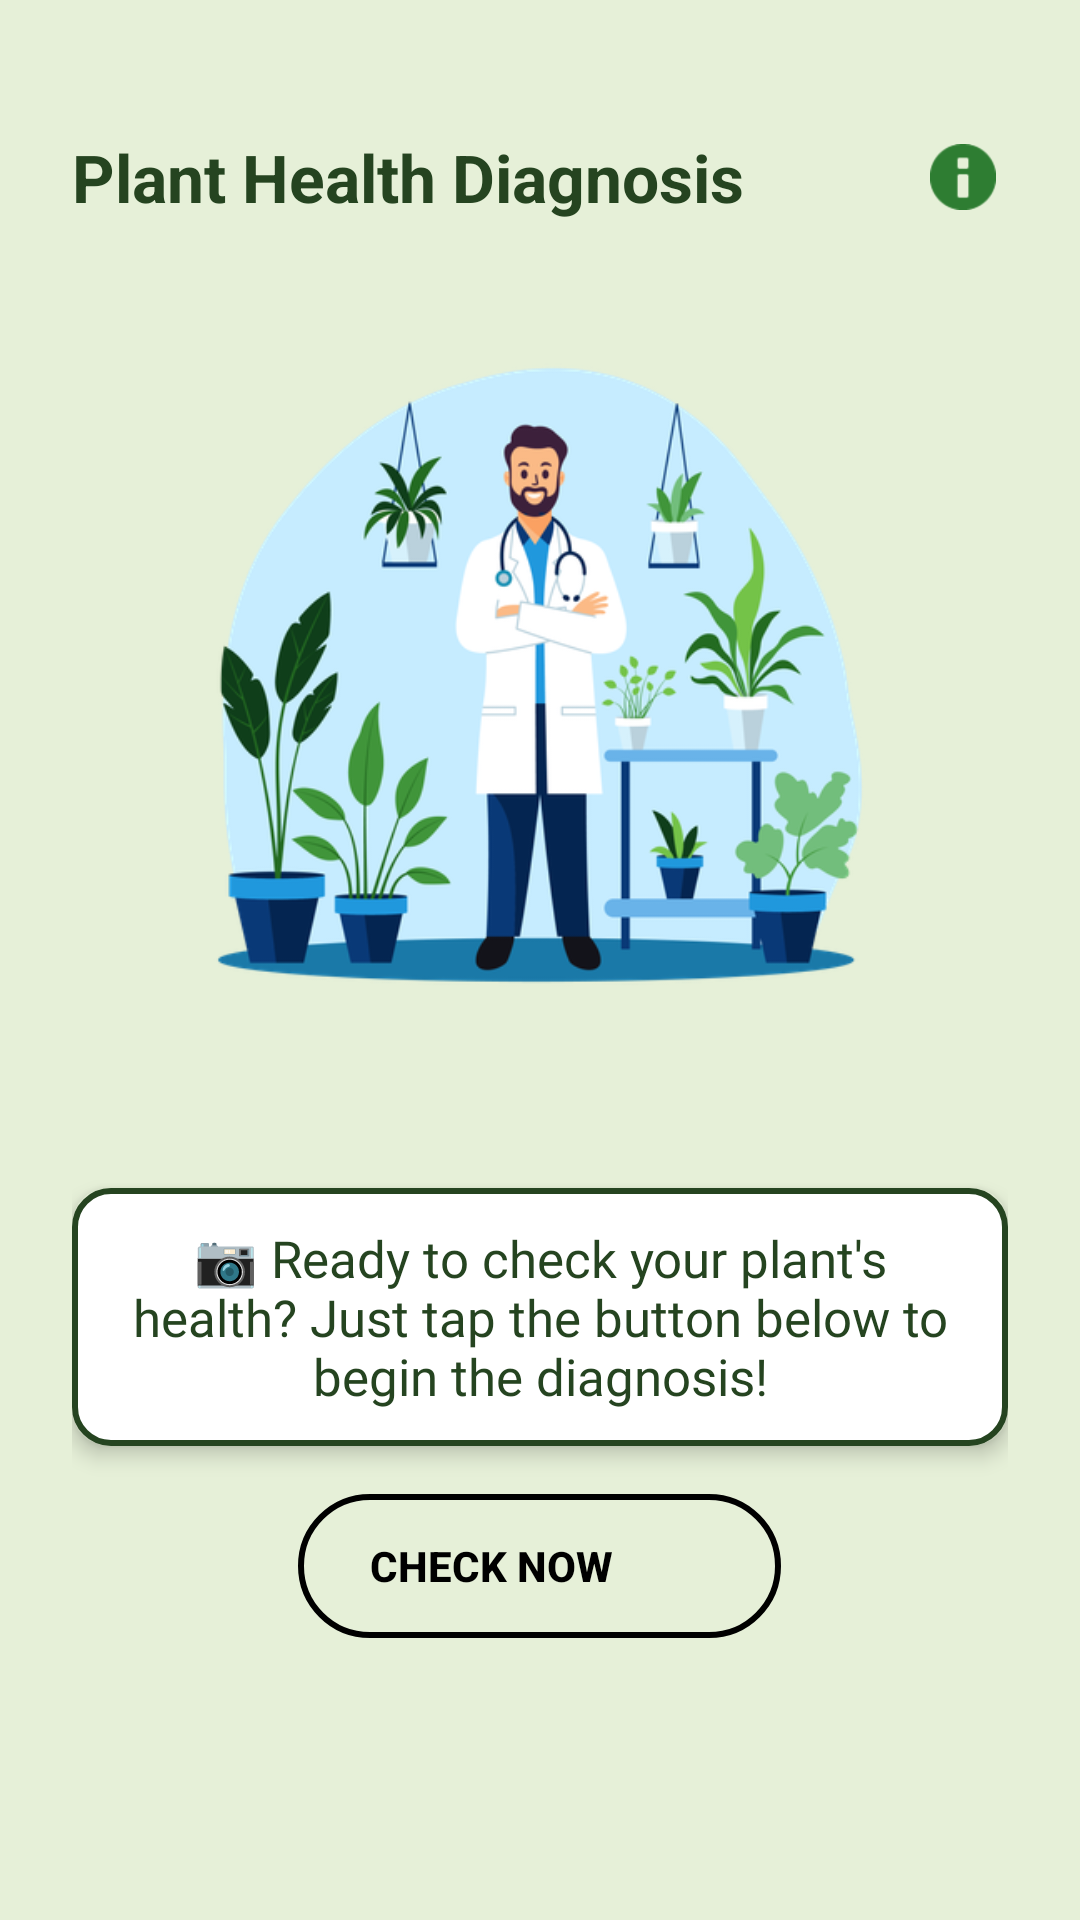

Screen size 1080*1920. Icon name, then its box in pixels as (x1, y1, x2, y2):
Info: (930, 144, 996, 210)
